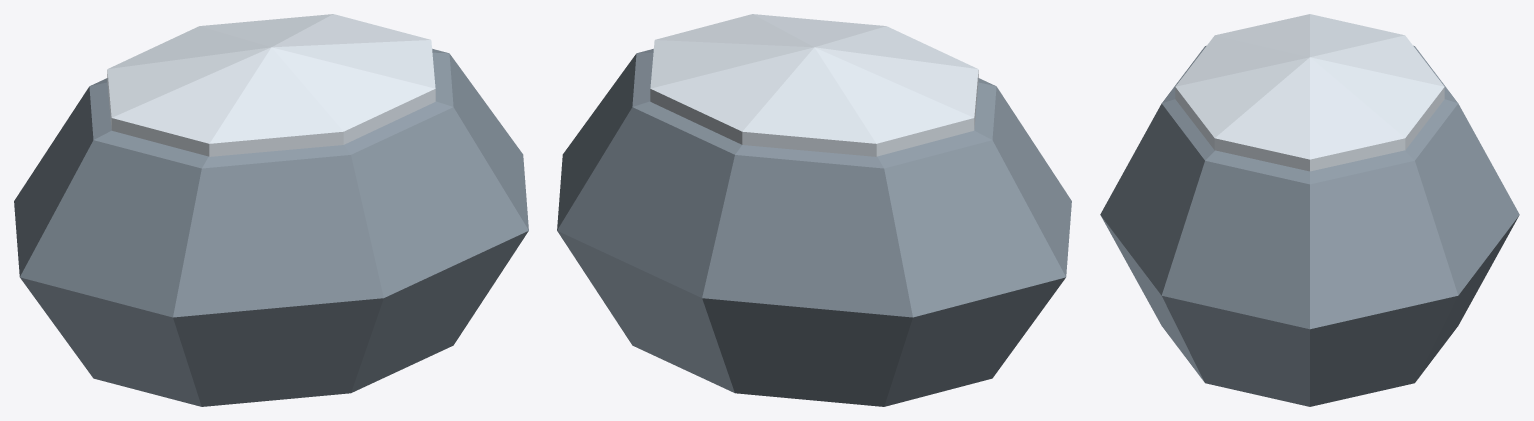
File: Mush_MapProp_Rock_A_V2.fbx
The picture shows the model from 3 angles, left to right: view 1: azimuth 30°, elevation 25°; view 2: azimuth 150°, elevation 25°; view 3: azimuth 270°, elevation 25°; orthographic projection. The views are drawn at different scales.
Parts seen in each view (by area): view 1: Mush_MapProp_Rock_A_V2; view 2: Mush_MapProp_Rock_A_V2; view 3: Mush_MapProp_Rock_A_V2.
Part boxes in pixels (<box>): Mush_MapProp_Rock_A_V2: <box>14,14,528,406</box>; Mush_MapProp_Rock_A_V2: <box>557,14,1071,406</box>; Mush_MapProp_Rock_A_V2: <box>1100,14,1519,406</box>.
Bounding box in the file's own units: 150 × 96 × 116.
